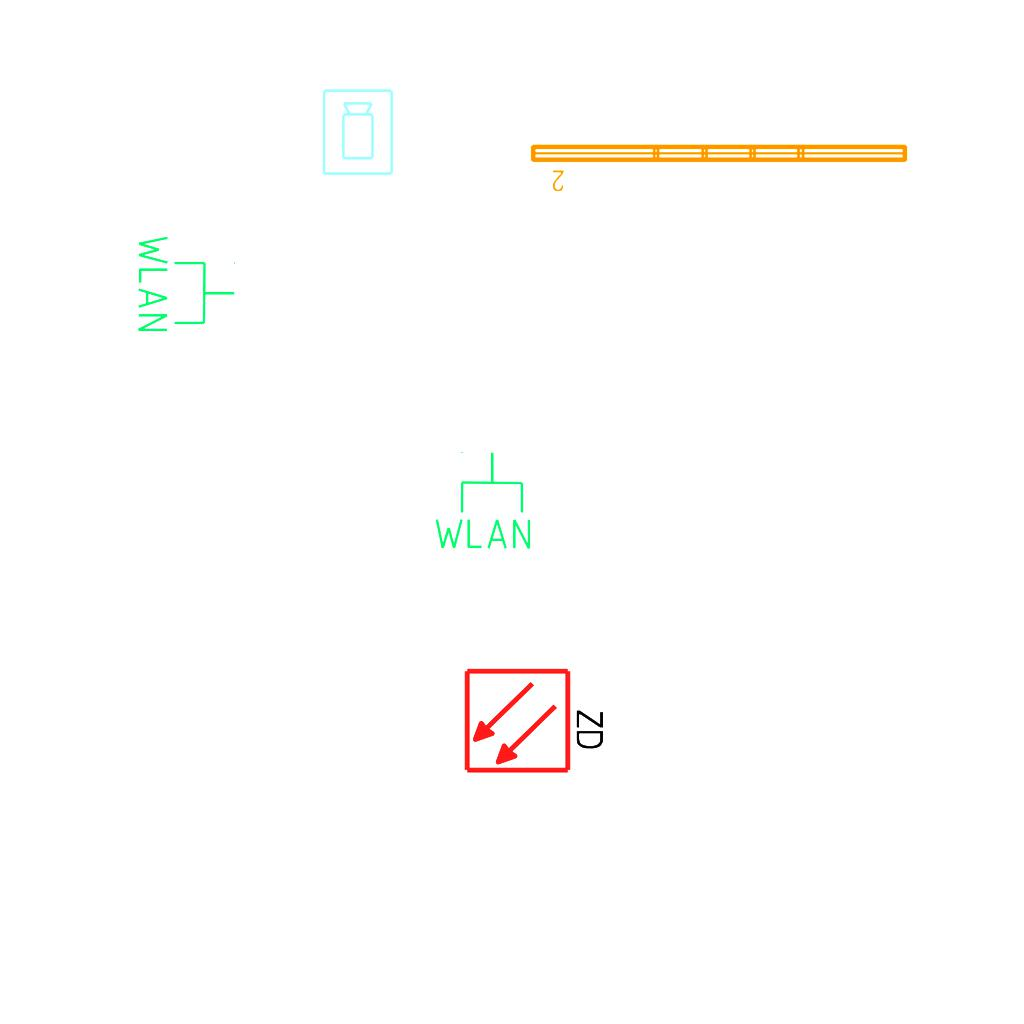Ambulanz_Pendelleuchte_LED: (526, 138, 913, 194)
KFO_Kamera_mit_Festobjektiv: (320, 87, 397, 178)
WLAN: (134, 231, 238, 336), (430, 449, 535, 553)
ZD_Melder_in_Zwischendecke_mit_Revisionsoeffnung_mind_40_x_40_cm: (462, 662, 611, 776)
